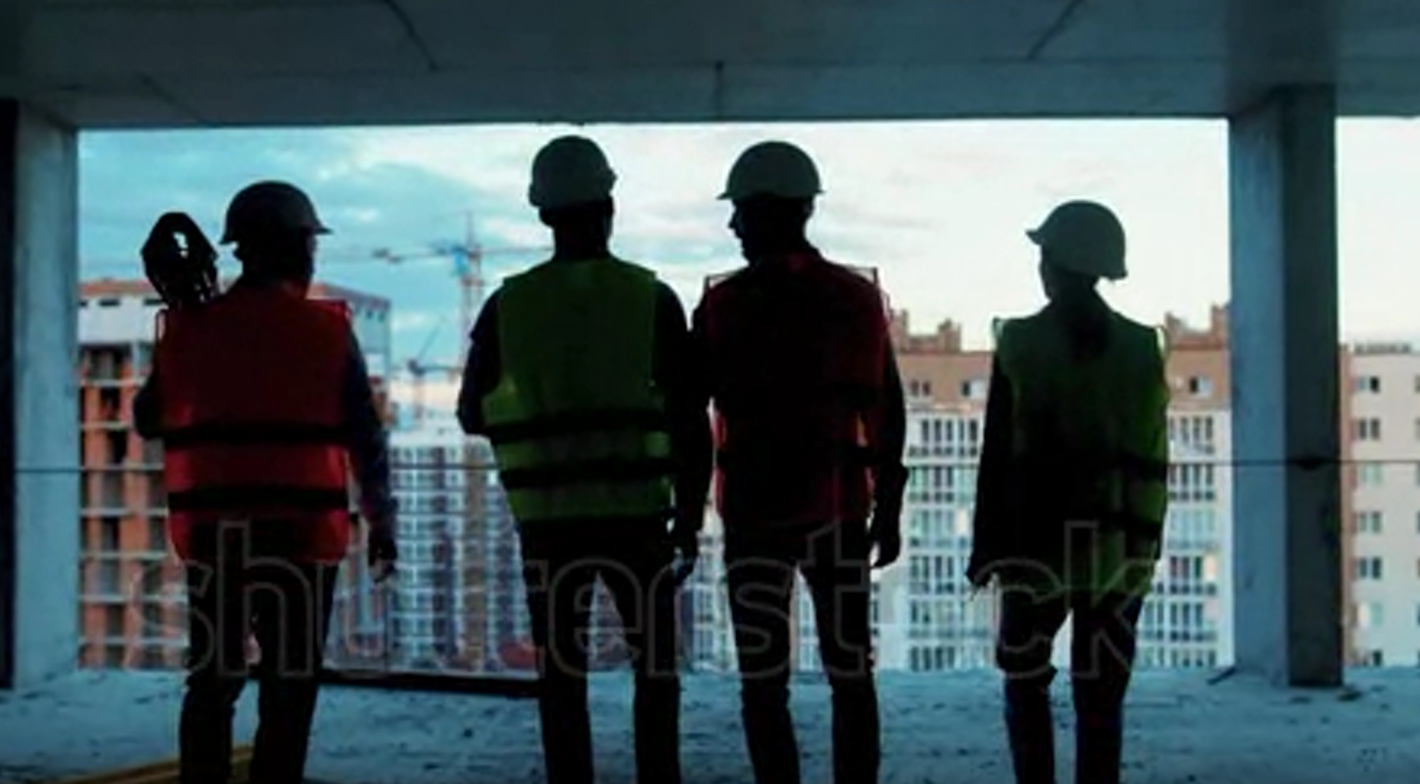safety_helmet: (1025, 198, 1128, 281), (140, 210, 220, 309), (219, 179, 333, 246), (527, 134, 617, 213), (716, 139, 825, 203)
